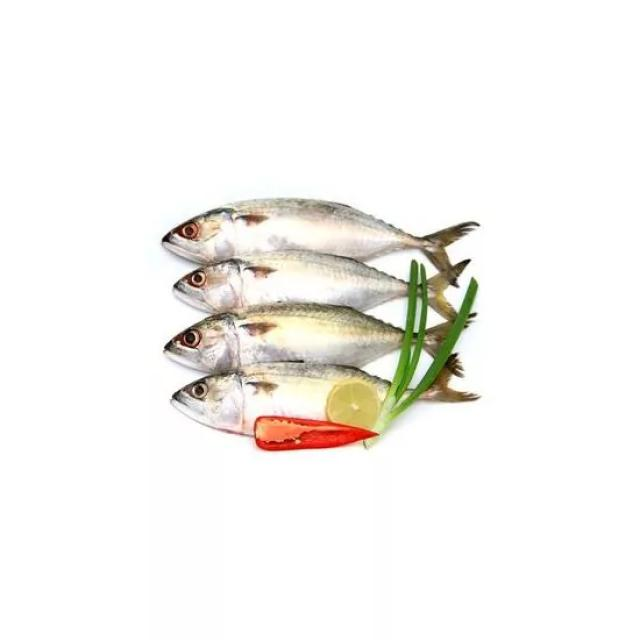Chilli Pepper: (254, 416, 377, 451)
Mackerel: (163, 199, 478, 272), (165, 303, 404, 373), (171, 363, 390, 434), (174, 254, 407, 313), (421, 355, 479, 402), (430, 261, 464, 318), (424, 323, 449, 354)
Spring onion: (376, 262, 479, 433)
lemon: (327, 379, 380, 428)
